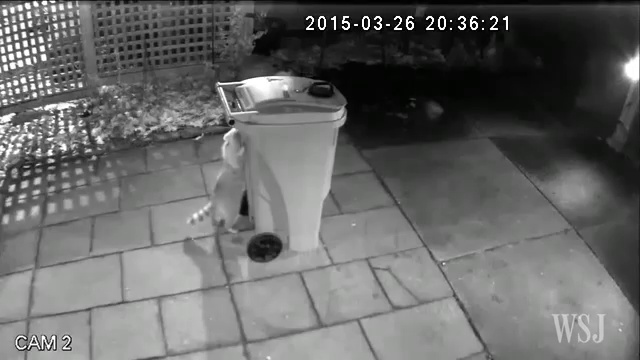raccoon: (190, 129, 256, 243)
